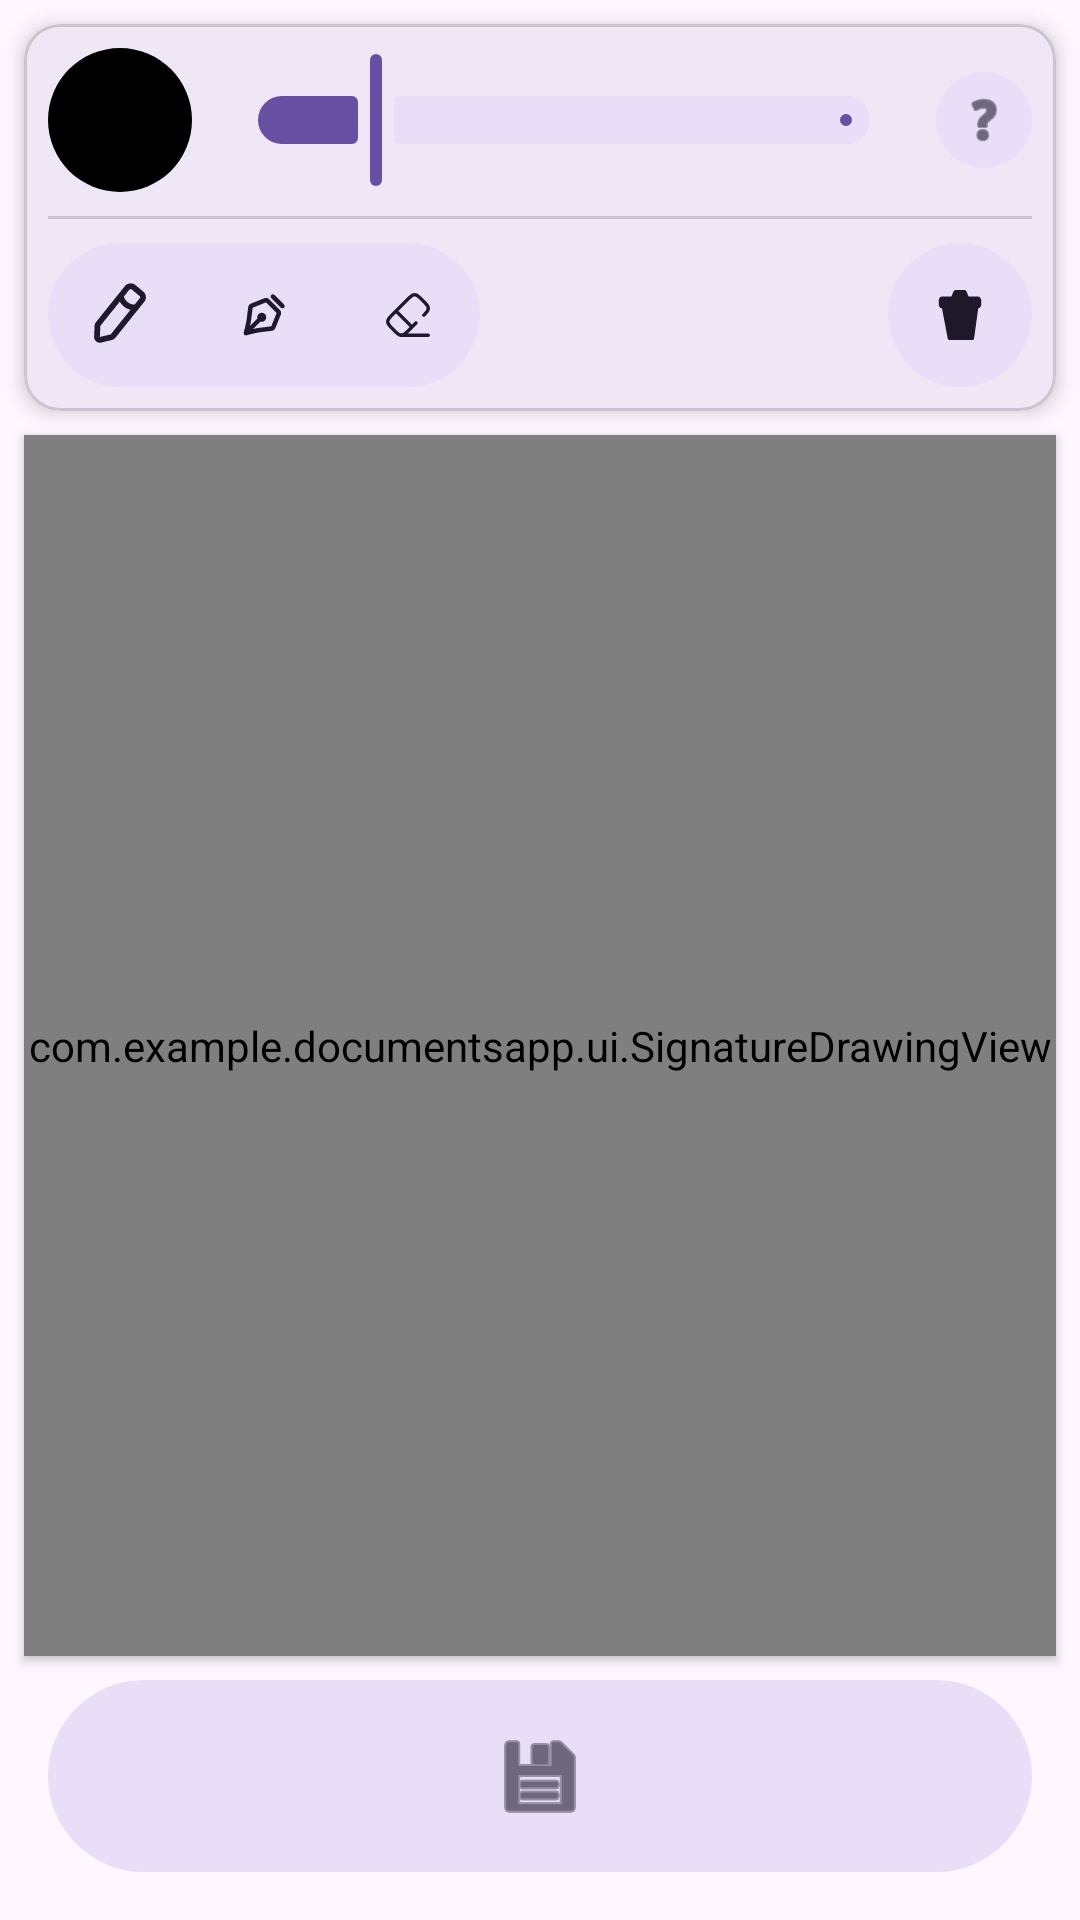

Icons on this 1080x1920 Android screen, each with its box as box(x1, y1, x2, y2):
bin custom: box(938, 290, 982, 340)
help: box(971, 98, 997, 142)
pen custom: box(243, 294, 285, 336)
